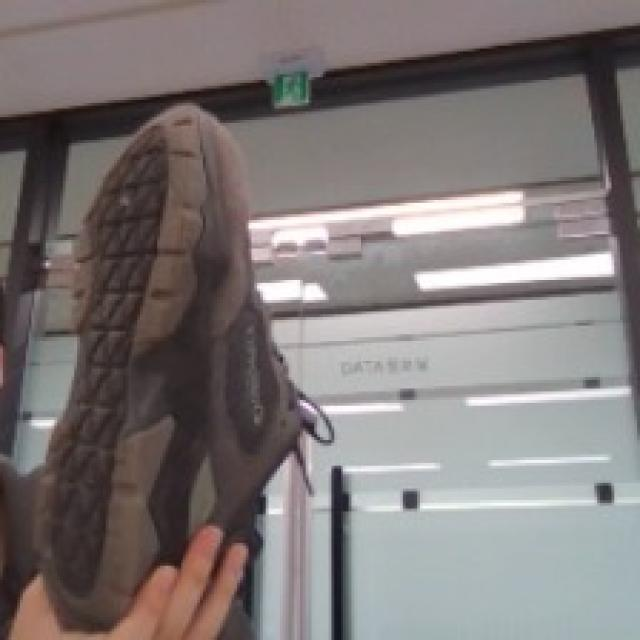shoes: (18, 20, 343, 638)
